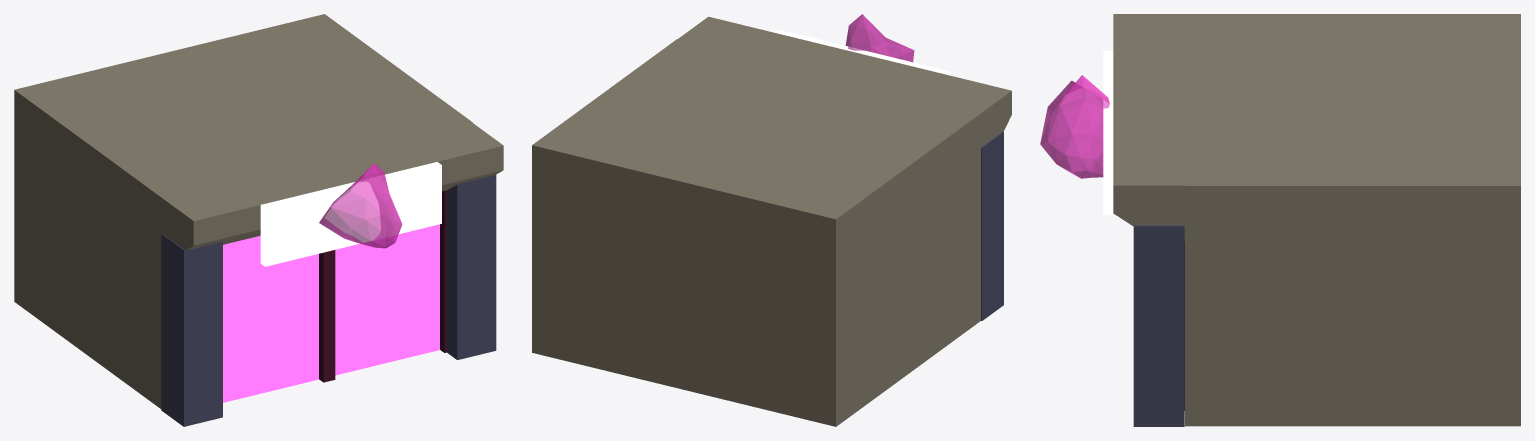
The picture shows the model from 3 angles, left to right: view 1: azimuth 30°, elevation 25°; view 2: azimuth 150°, elevation 25°; view 3: azimuth 270°, elevation 25°; orthographic projection. The views are drawn at different scales.
Parts seen in each view (by area): view 1: Cube.028, Cube.002, Cube.001, Cube.006, Cube.007, Cube, Icosphere, Cube.005, Cube.004; view 2: Cube.028, Cube.001, Cube.007, Icosphere, Cube.006; view 3: Cube.028, Cube.001, Cube, Icosphere, Cube.006.
Boxes of the visible parts, x1=… form: Cube.028: x1=14, y1=14, x2=472, y2=408; Cube.002: x1=223, y1=224, x2=439, y2=402; Cube.001: x1=162, y1=122, x2=503, y2=250; Cube.006: x1=260, y1=162, x2=441, y2=266; Cube.007: x1=161, y1=233, x2=222, y2=426; Cube: x1=446, y1=175, x2=496, y2=359; Icosphere: x1=319, y1=163, x2=402, y2=248; Cube.005: x1=319, y1=250, x2=335, y2=382; Cube.004: x1=440, y1=190, x2=446, y2=352; Cube.028: x1=532, y1=39, x2=980, y2=426; Cube.001: x1=678, y1=16, x2=1011, y2=147; Cube.007: x1=981, y1=131, x2=1003, y2=320; Icosphere: x1=845, y1=14, x2=914, y2=62; Cube.006: x1=773, y1=29, x2=950, y2=75; Cube.028: x1=1185, y1=14, x2=1520, y2=426; Cube.001: x1=1113, y1=14, x2=1184, y2=240; Cube: x1=1133, y1=225, x2=1184, y2=426; Icosphere: x1=1040, y1=75, x2=1109, y2=178; Cube.006: x1=1103, y1=51, x2=1113, y2=215.
Size of the model in its own units: 12.49 by 9.17 by 14.67.
